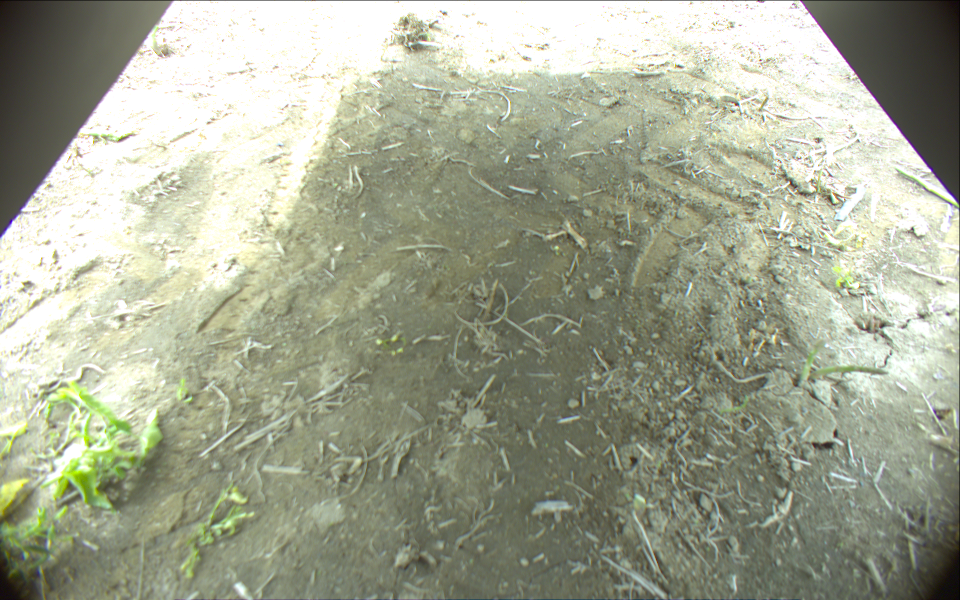aspa: (814, 363, 890, 376), (801, 345, 820, 381)
